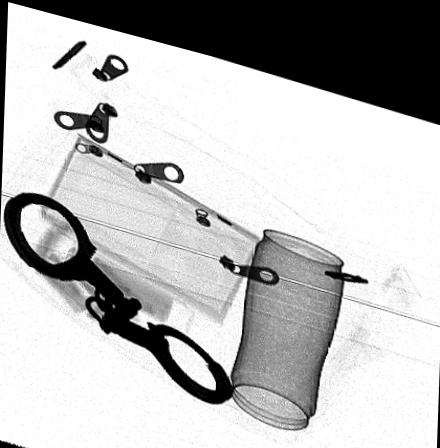HandCuffs: (3, 190, 233, 394)
